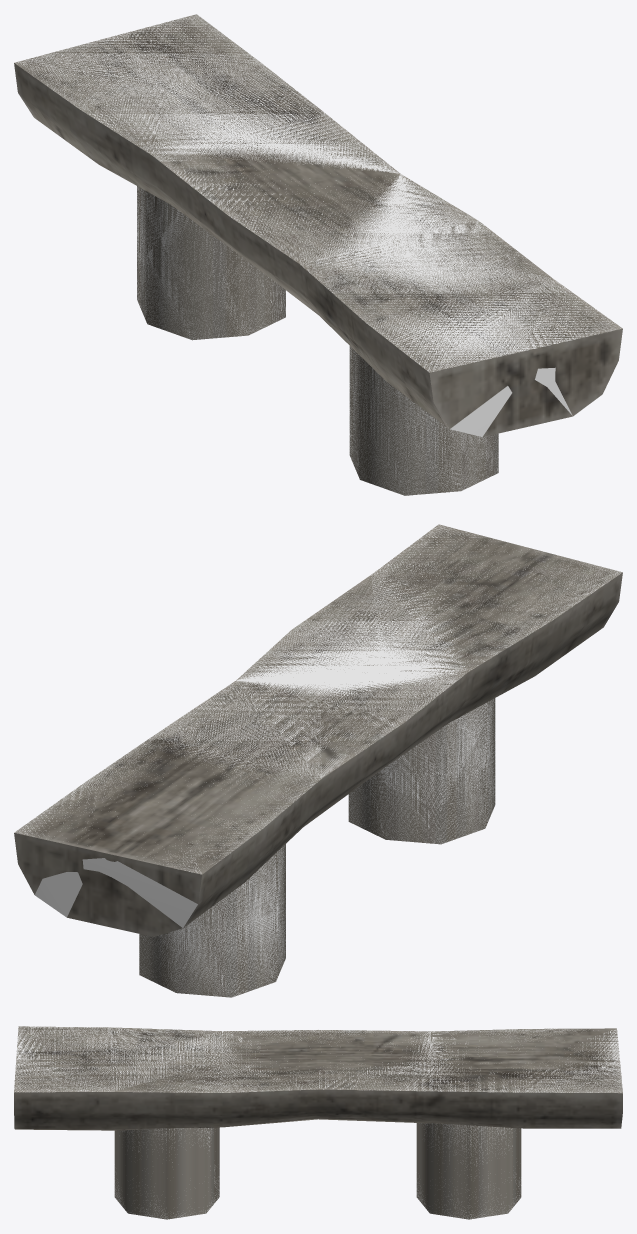
The model's file is objects_un_dlc1_bench01_01.gltf.
The picture shows the model from 3 angles, top to bottom: view 1: azimuth 30°, elevation 25°; view 2: azimuth 150°, elevation 25°; view 3: azimuth 270°, elevation 25°; orthographic projection. The views are drawn at different scales.
Visible parts, largest first — view 1: um_objects_un_dlc1_bench01_01_model_lod0Shape:m_objects_un_d, um_objects_un_dlc1_bench01_01_model_lod0Shape:objects_un_dlc; view 2: um_objects_un_dlc1_bench01_01_model_lod0Shape:m_objects_un_d, um_objects_un_dlc1_bench01_01_model_lod0Shape:objects_un_dlc; view 3: um_objects_un_dlc1_bench01_01_model_lod0Shape:m_objects_un_d, um_objects_un_dlc1_bench01_01_model_lod0Shape:objects_un_dlc.
Boxes of the visible parts, x1,y1,x2,y2 form: um_objects_un_dlc1_bench01_01_model_lod0Shape:m_objects_un_d: (14,14,622,495); um_objects_un_dlc1_bench01_01_model_lod0Shape:objects_un_dlc: (15,14,620,495); um_objects_un_dlc1_bench01_01_model_lod0Shape:m_objects_un_d: (14,524,622,997); um_objects_un_dlc1_bench01_01_model_lod0Shape:objects_un_dlc: (14,525,621,997); um_objects_un_dlc1_bench01_01_model_lod0Shape:m_objects_un_d: (14,1026,622,1219); um_objects_un_dlc1_bench01_01_model_lod0Shape:objects_un_dlc: (14,1026,622,1219).
Size of what is drawn, in the model's own units: 0.5755 by 0.5484 by 2.22.
2 materials, 1 textured.
